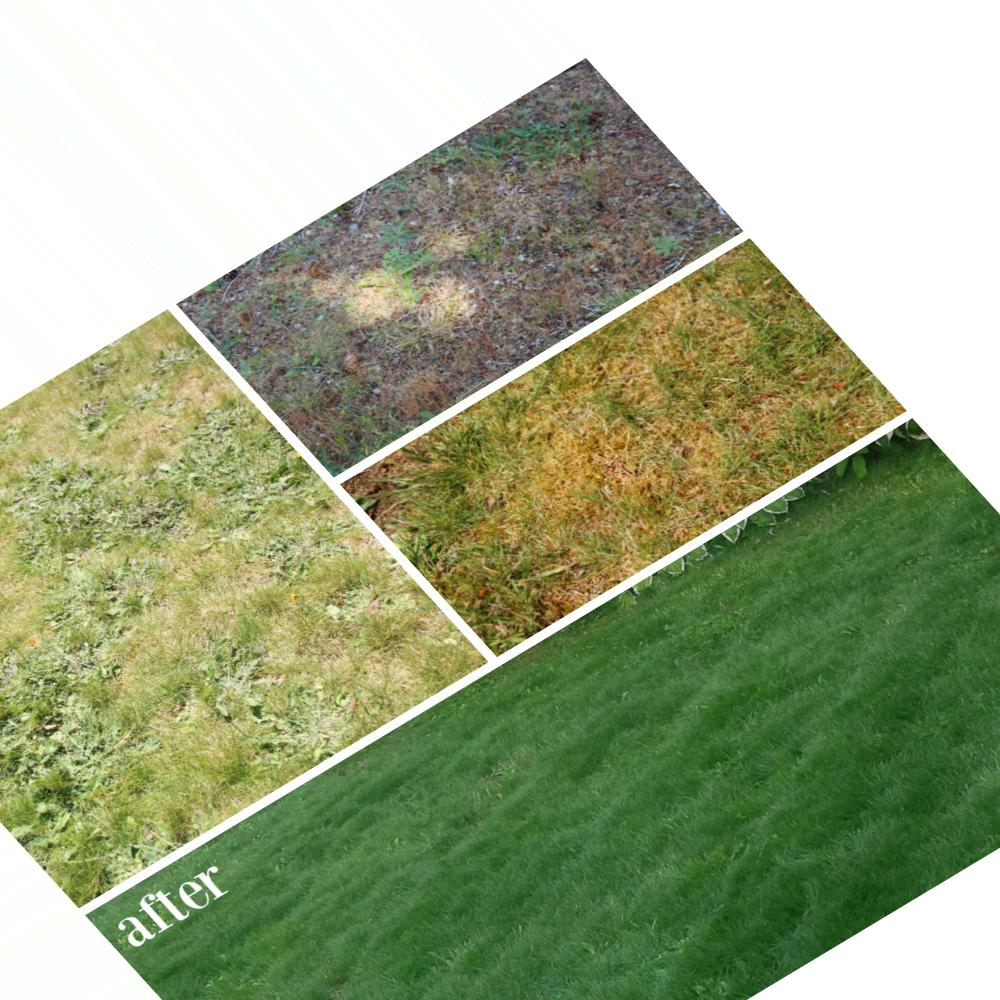patch: (68, 658, 215, 786), (52, 485, 180, 613), (218, 518, 319, 653), (565, 356, 693, 462), (465, 474, 575, 549), (105, 338, 185, 439), (236, 676, 396, 705), (715, 401, 788, 457), (703, 296, 771, 353), (617, 496, 676, 537), (823, 388, 862, 429)
